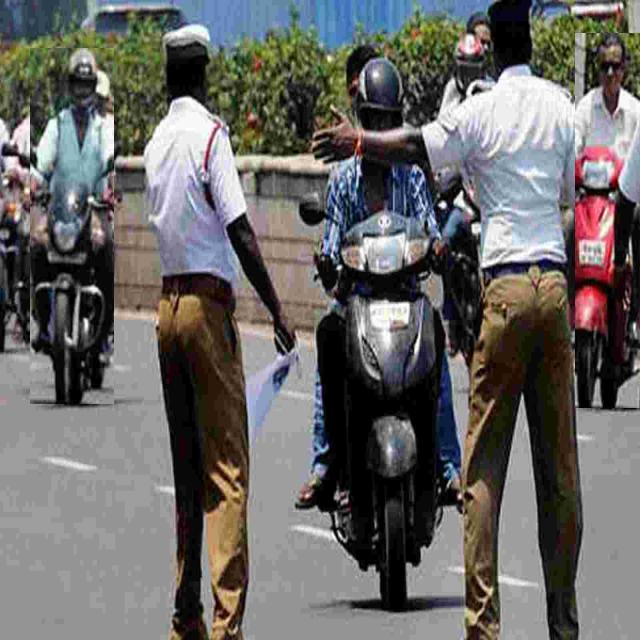motorcycle: (296, 158, 460, 610), (30, 48, 114, 404), (575, 34, 640, 408)
